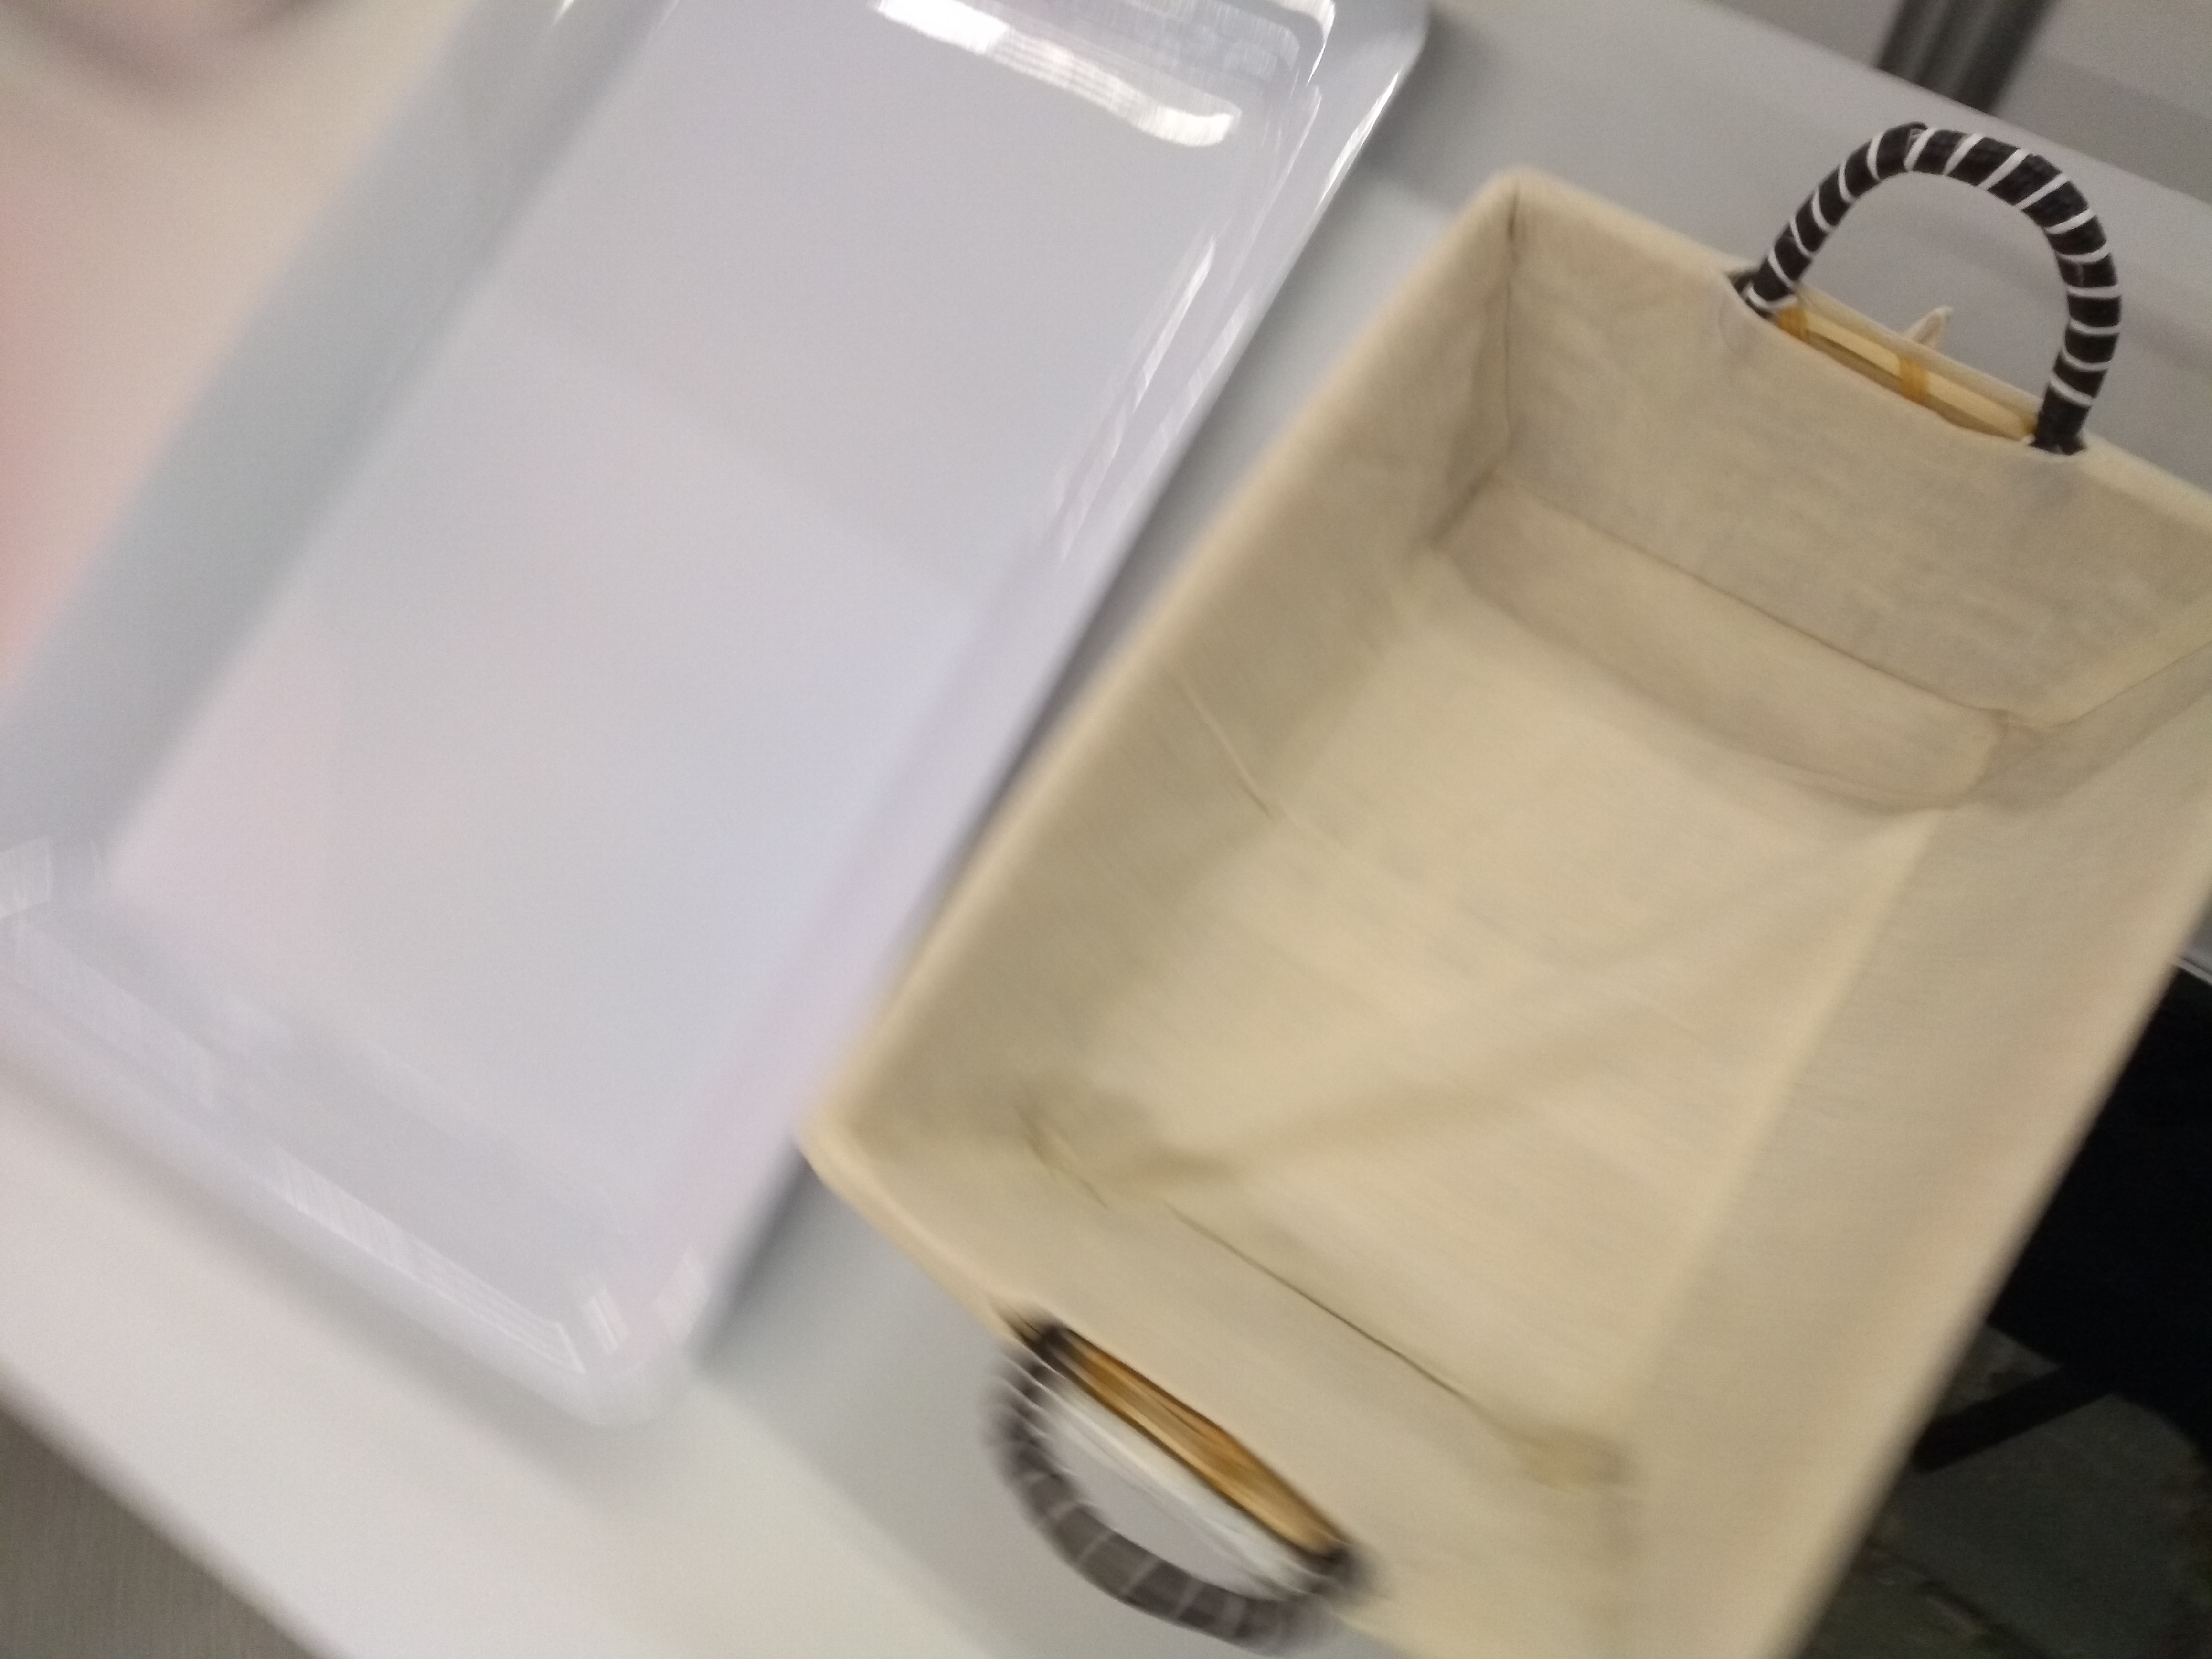basket: (796, 103, 2200, 1659)
tray: (9, 5, 1453, 1422)
